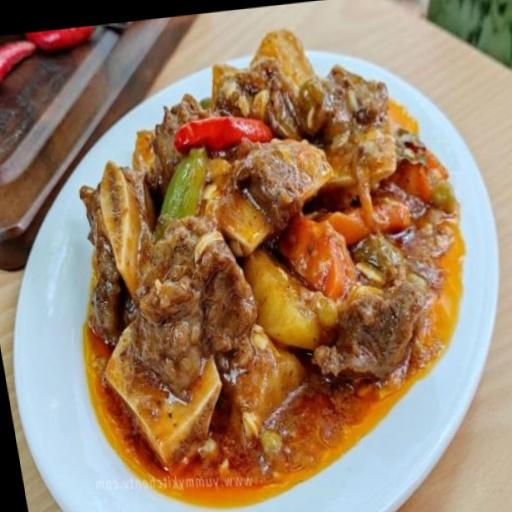pork caldereta: (86, 40, 458, 503)
